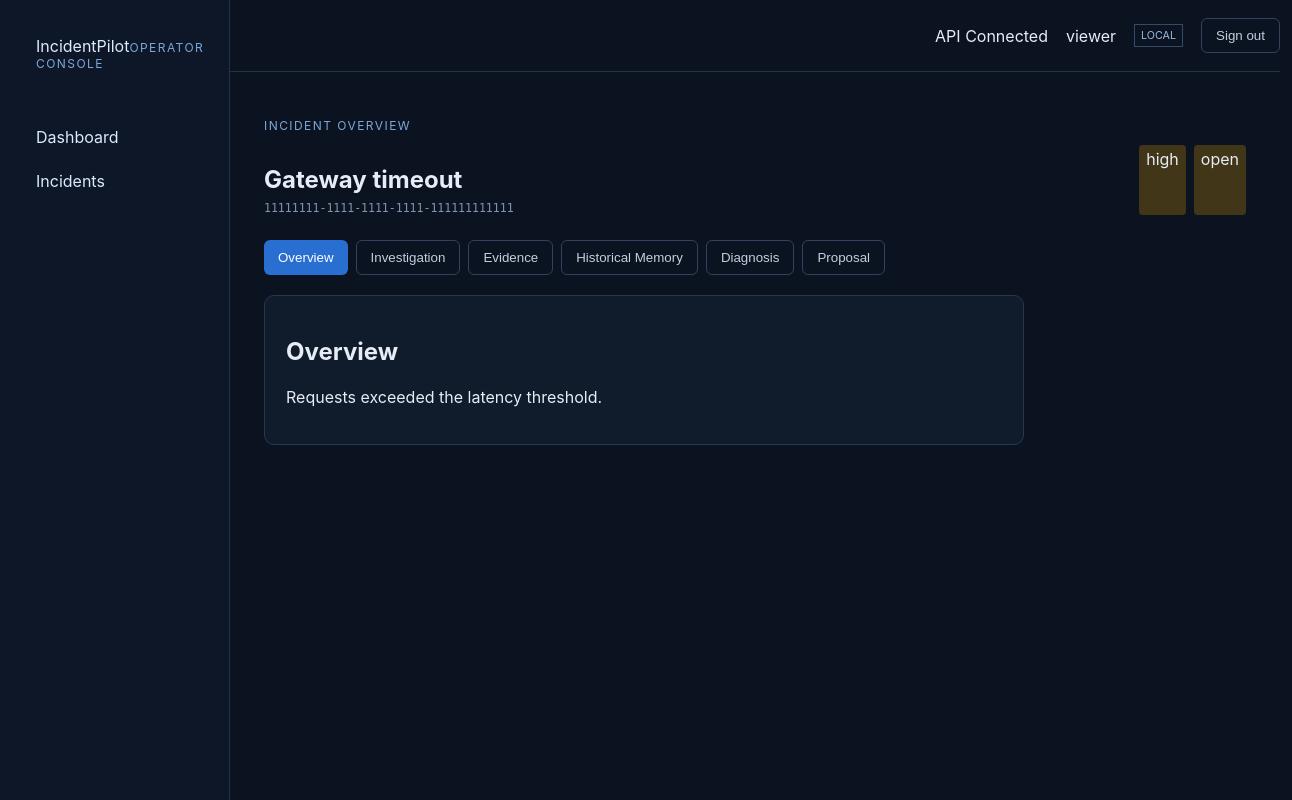
incident workspace safety › renders persisted investigation, evidence, historical memory, and diagnosis without execution
Expected: the heading "Gateway timeout" is shown, [264,165,462,194]
Click the button "Investigation": (408, 257) [356,240,460,275]
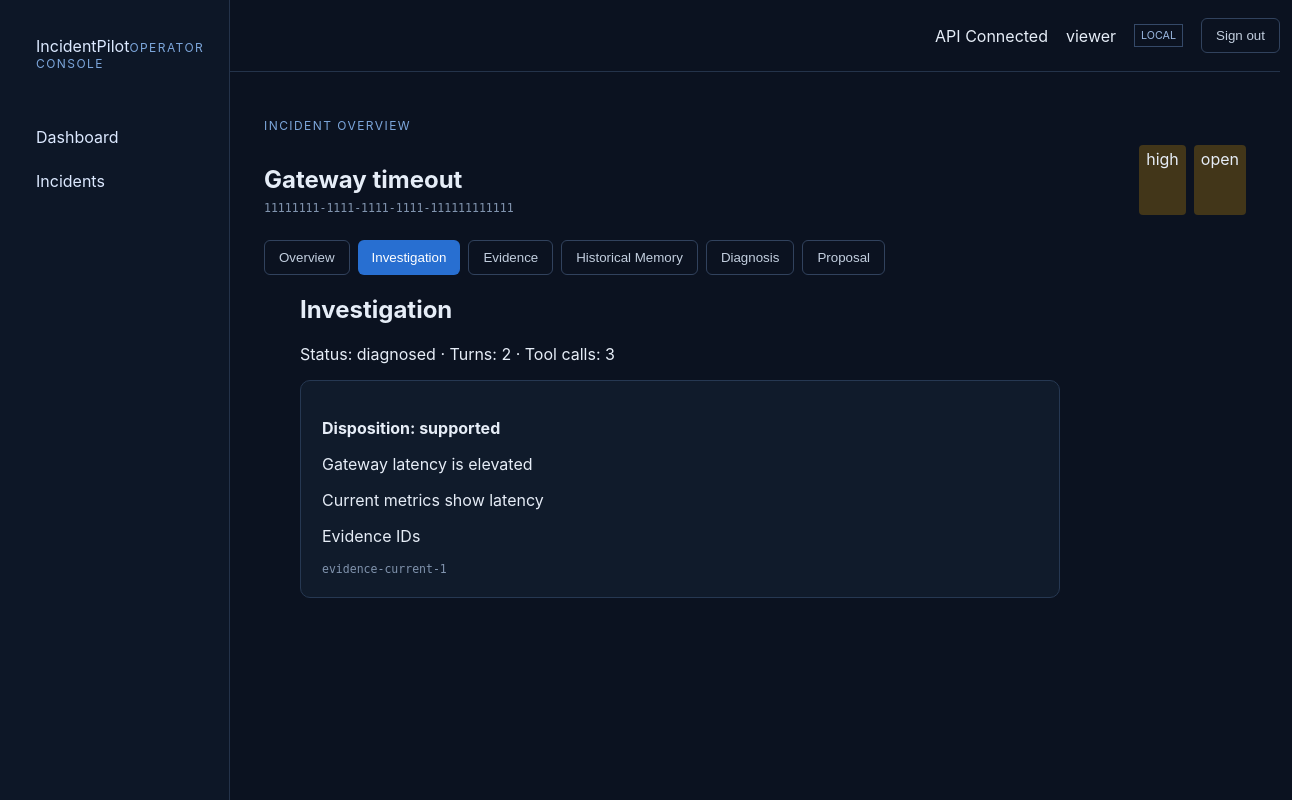
Expected: the text "Disposition: supported" is shown, [322,418,500,438]
Expected: the text "evidence-current-1" is shown, [322,562,447,576]
Click the button "Evidence": (511, 257) [468,240,553,275]
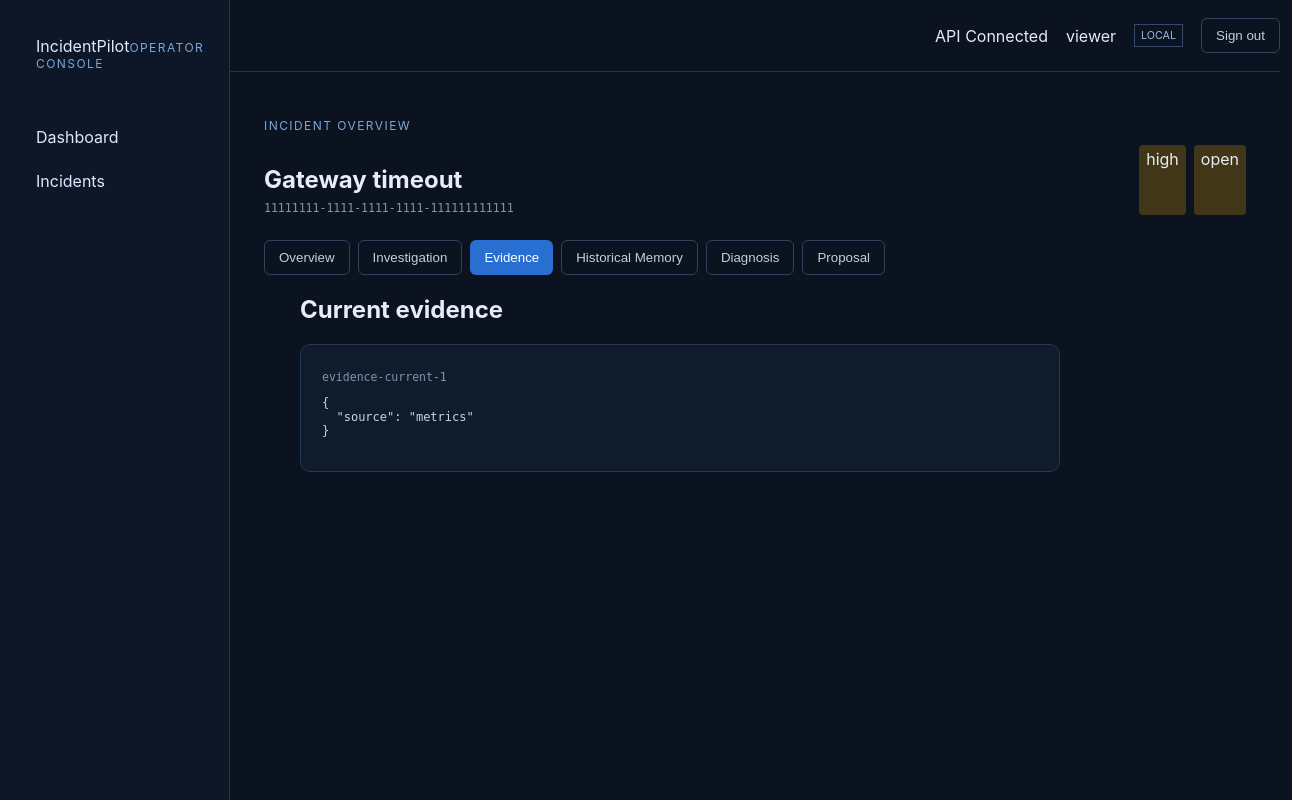
Expected: the heading "Current evidence" is shown, [300,295,503,324]
Click the button "Historical Memory": (630, 257) [561,240,698,275]
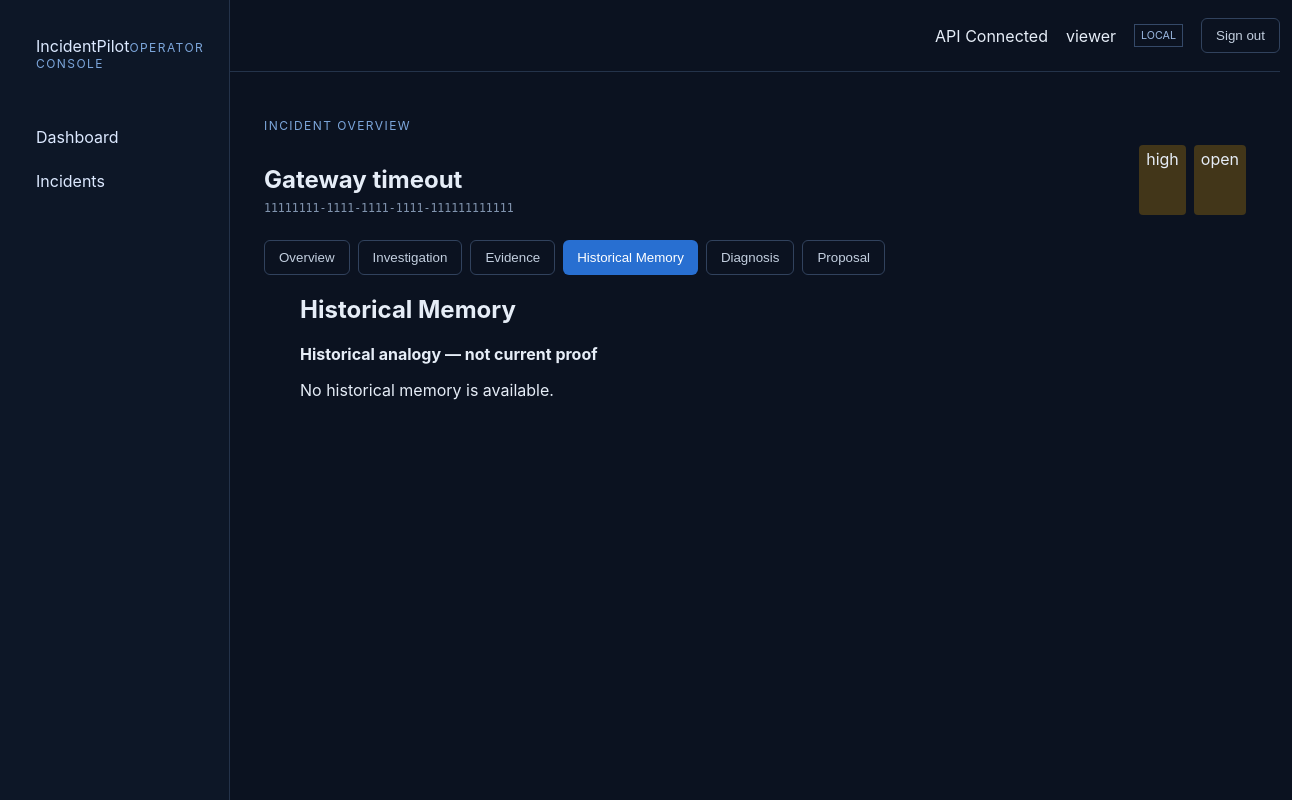
Expected: the text "Historical analogy — not current proof" is shown, [300,344,598,364]
Click the button "Diagnosis": (750, 257) [706,240,794,275]
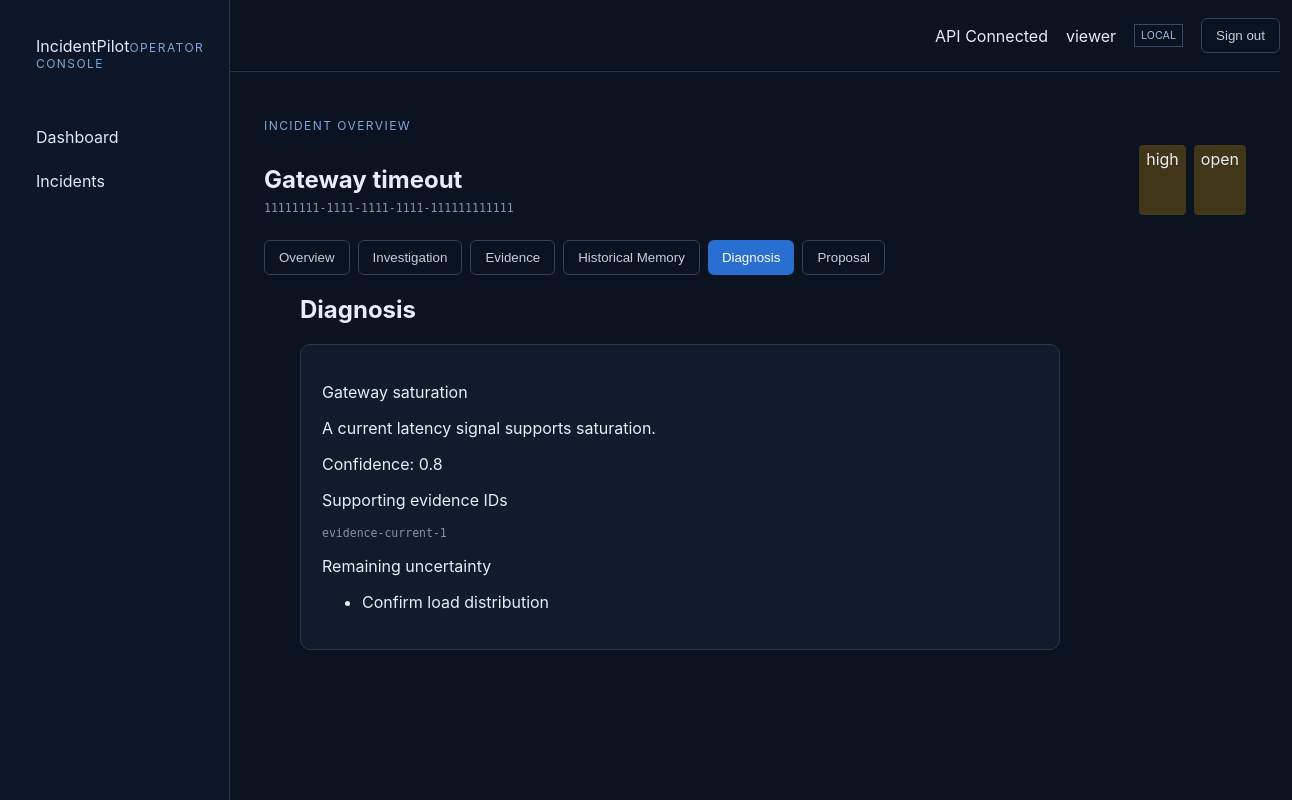
Expected: the text "Remaining uncertainty" is shown, [322,556,491,576]
